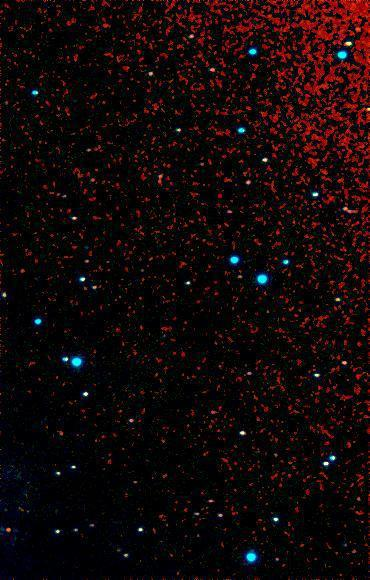star: (0, 515, 23, 545)
